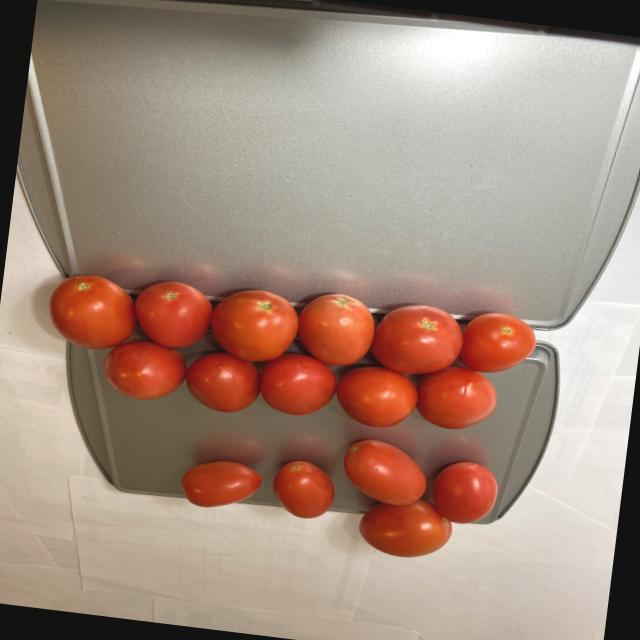tomato: (32, 248, 541, 444), (151, 414, 502, 574)
